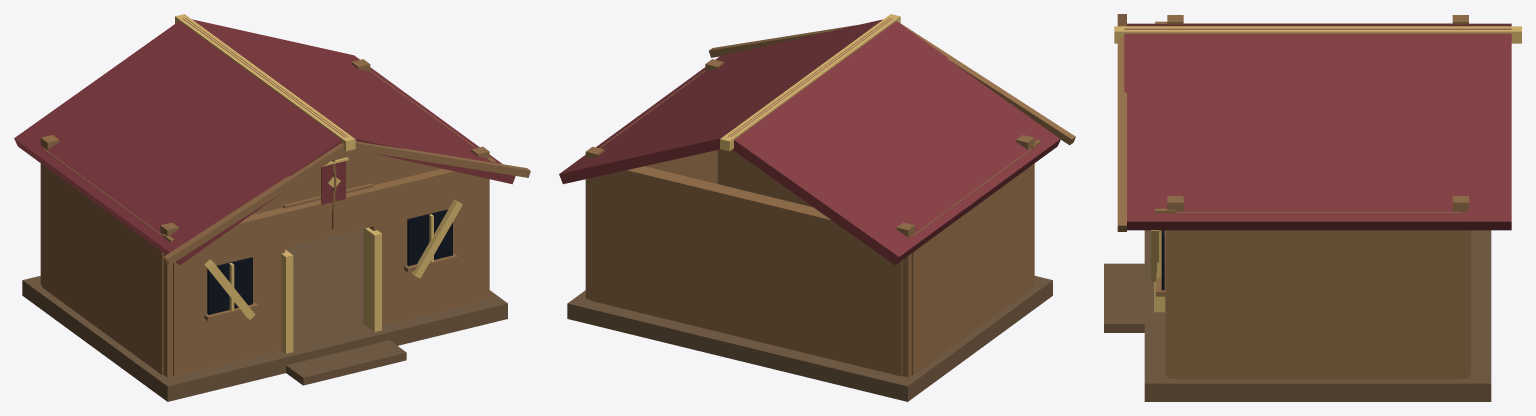
The model's file is hall_human_lv1.glb.
3 renders of one model, left to right at view 1: azimuth 30°, elevation 25°; view 2: azimuth 150°, elevation 25°; view 3: azimuth 270°, elevation 25°, orthographic. The views are drawn at different scales.
Parts seen in each view (by area): view 1: hall_human_lv1; view 2: hall_human_lv1; view 3: hall_human_lv1.
Boxes of the visible parts, <box> form: hall_human_lv1: <box>14,14,530,401</box>; hall_human_lv1: <box>559,14,1075,401</box>; hall_human_lv1: <box>1104,14,1521,401</box>.
Bounding box in the file's own units: 24.56 × 14.84 × 20.5.
